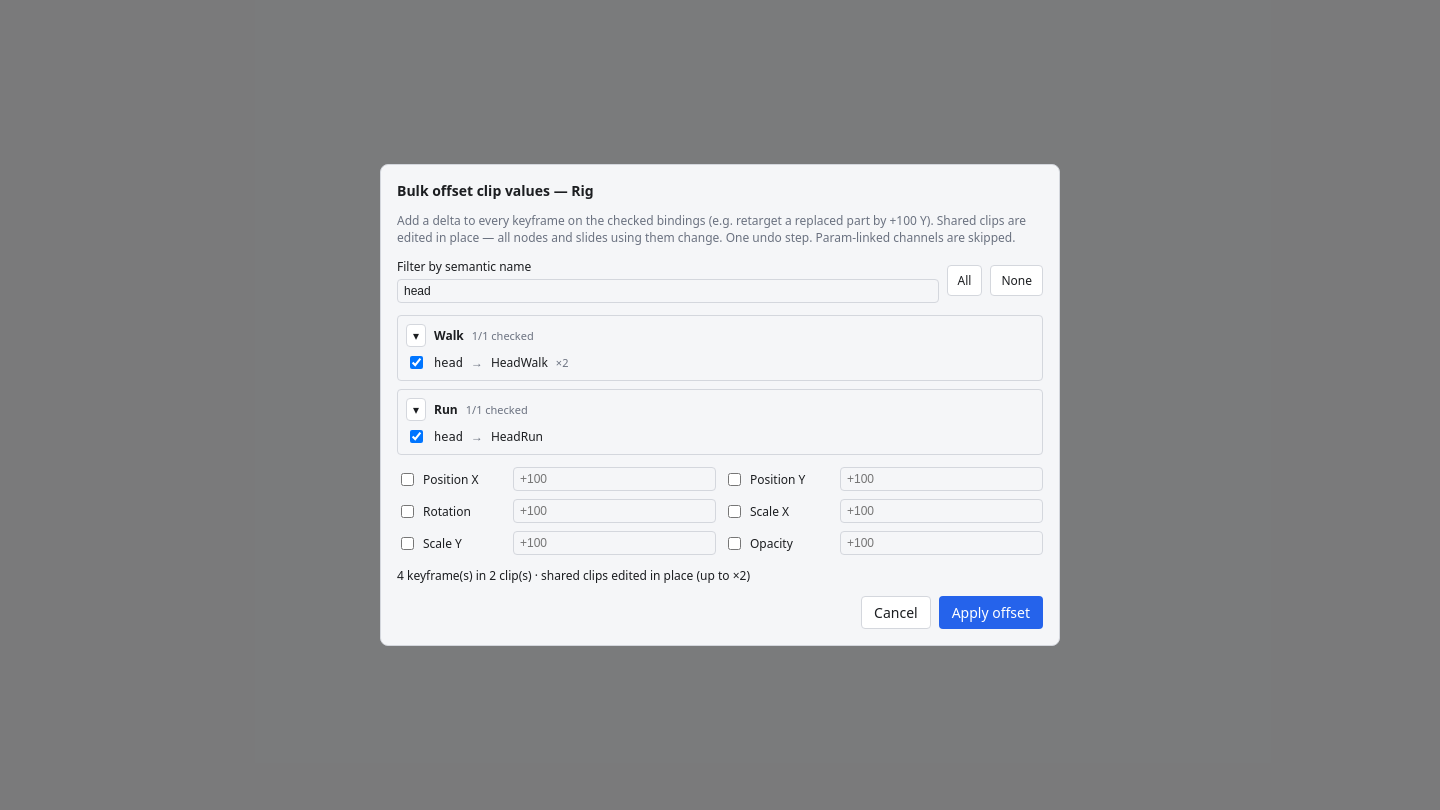
BulkOffsetModal › select-none blocks confirm with an error
The image size is (1440, 810).
Clear the field with test id "bulk-offset-filter" at (668, 291), box [397,279,938,303]
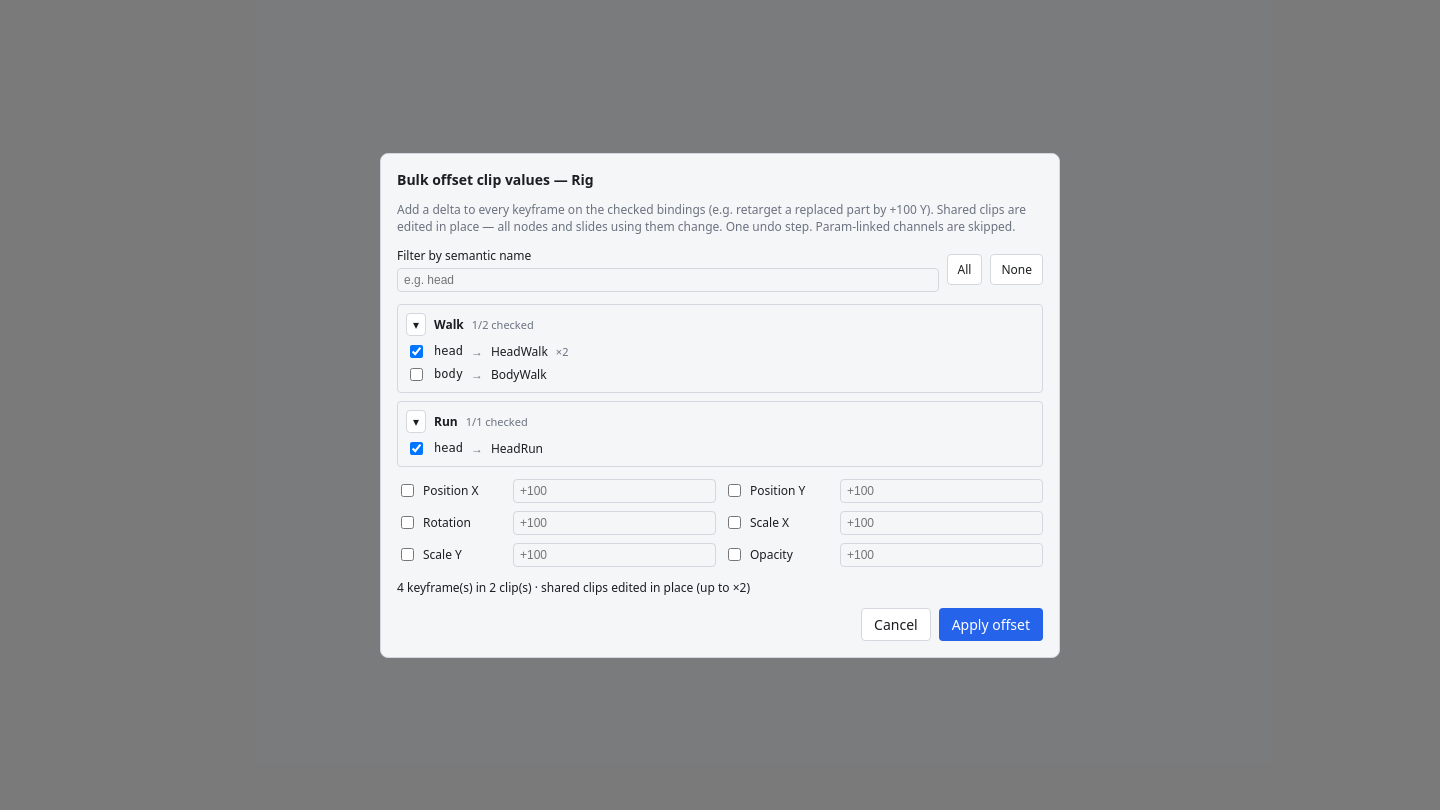
Click the button with test id "bulk-offset-select-none".
click(1017, 269)  # box [990,254,1043,284]
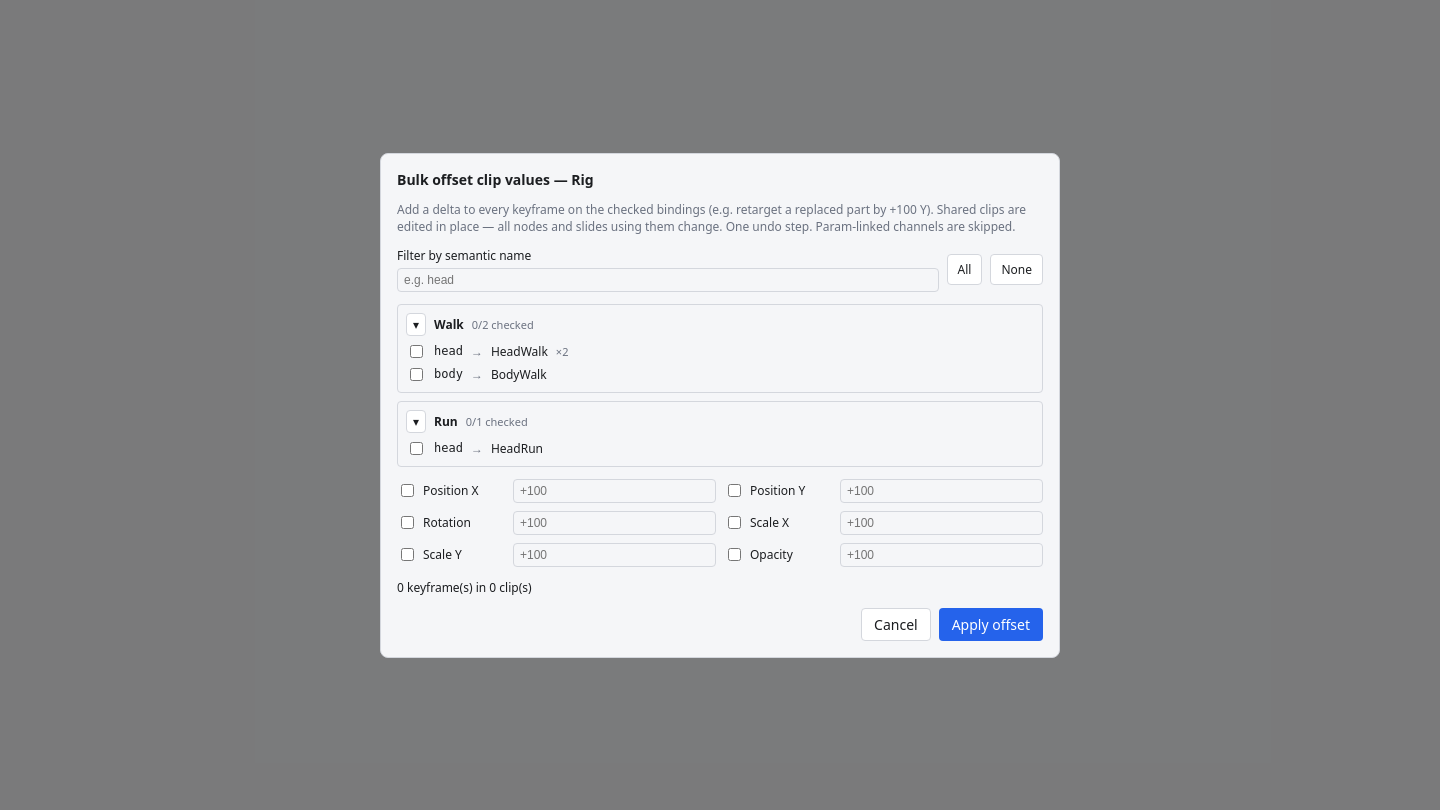
Click the checkbox with test id "bulk-offset-channel-positionY".
click(734, 490)  # box [728,484,741,497]
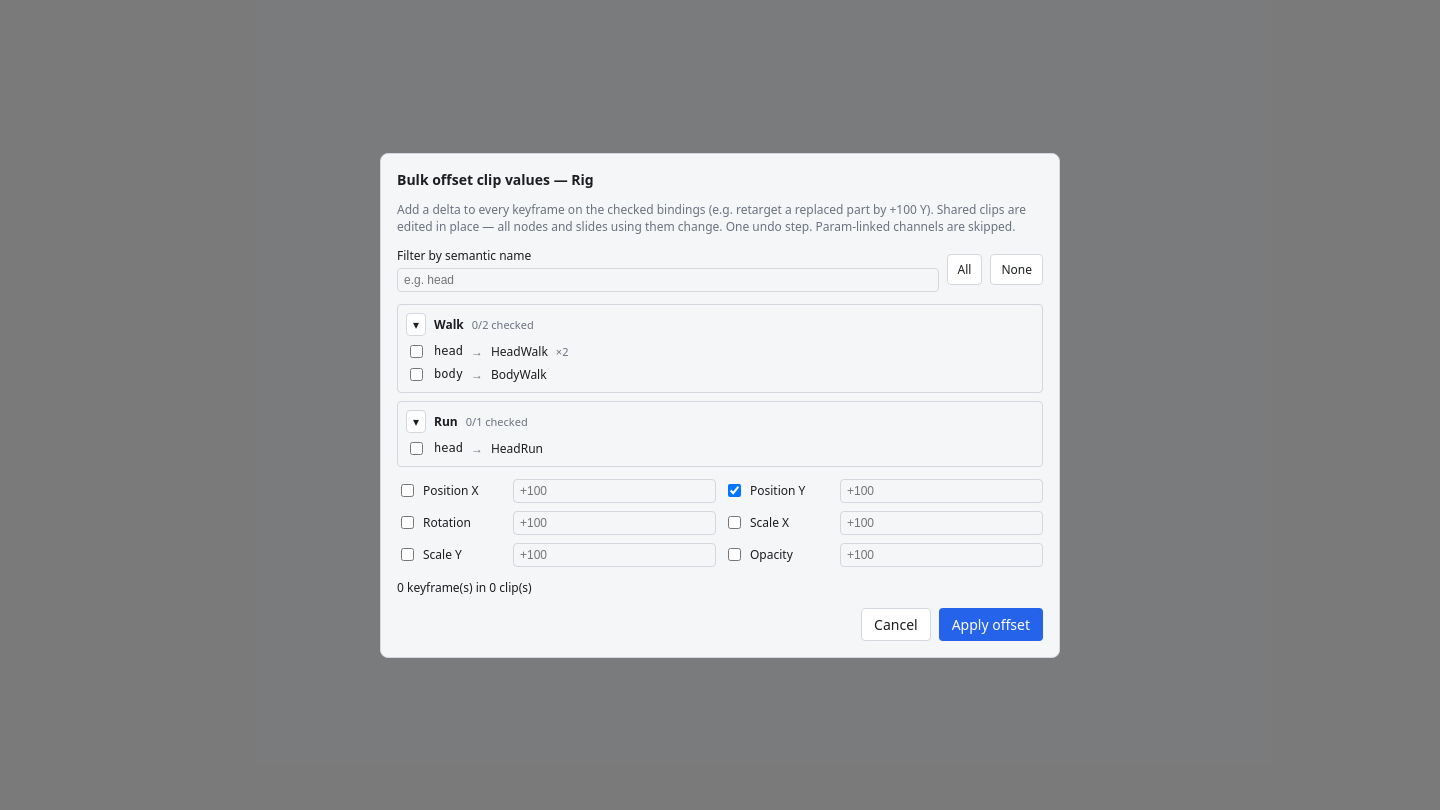
Type "100" into the field with test id "bulk-offset-delta-positionY".
click(942, 490); type("100")  # box [840,478,1043,502]
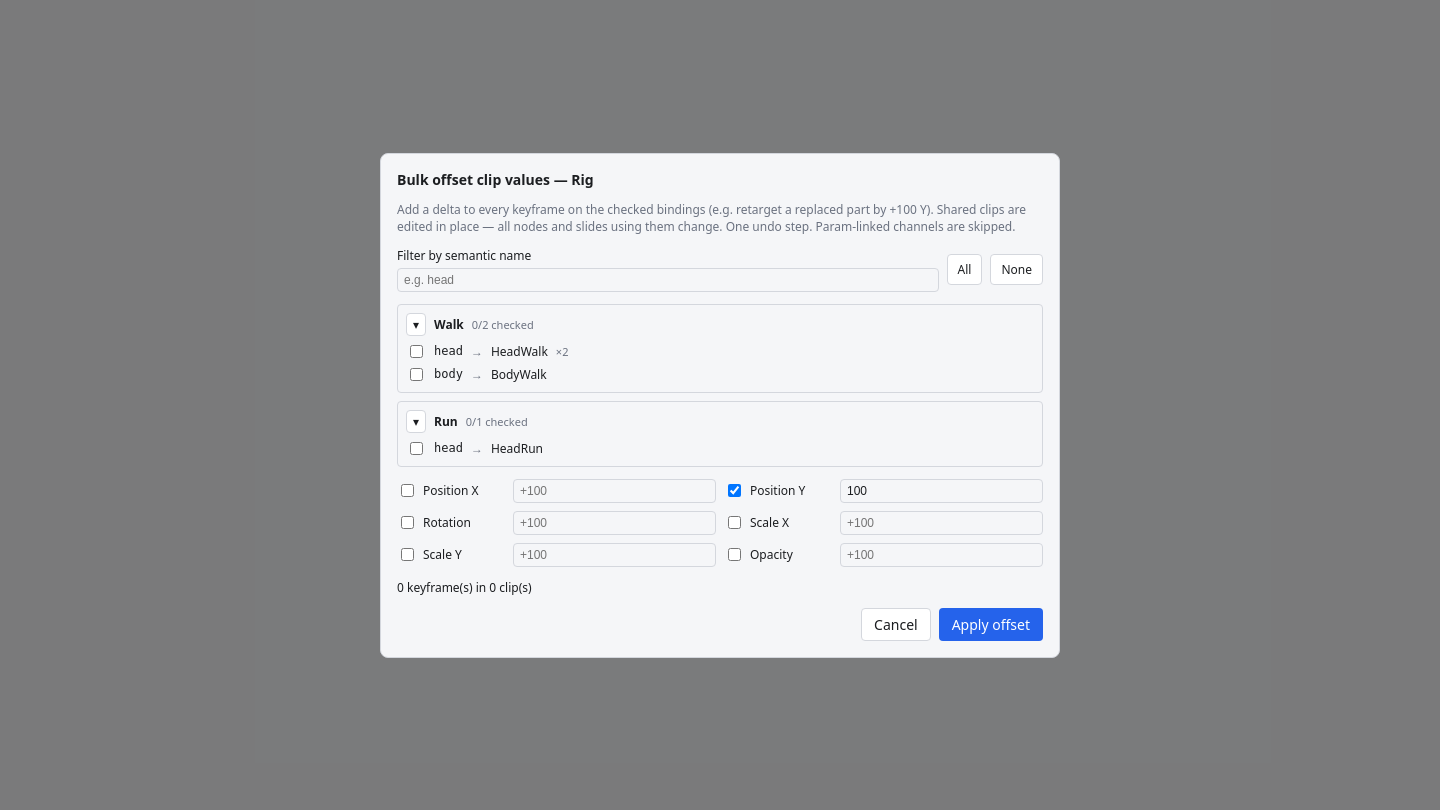
Click the button with test id "bulk-offset-confirm".
click(991, 624)  # box [939,608,1043,640]
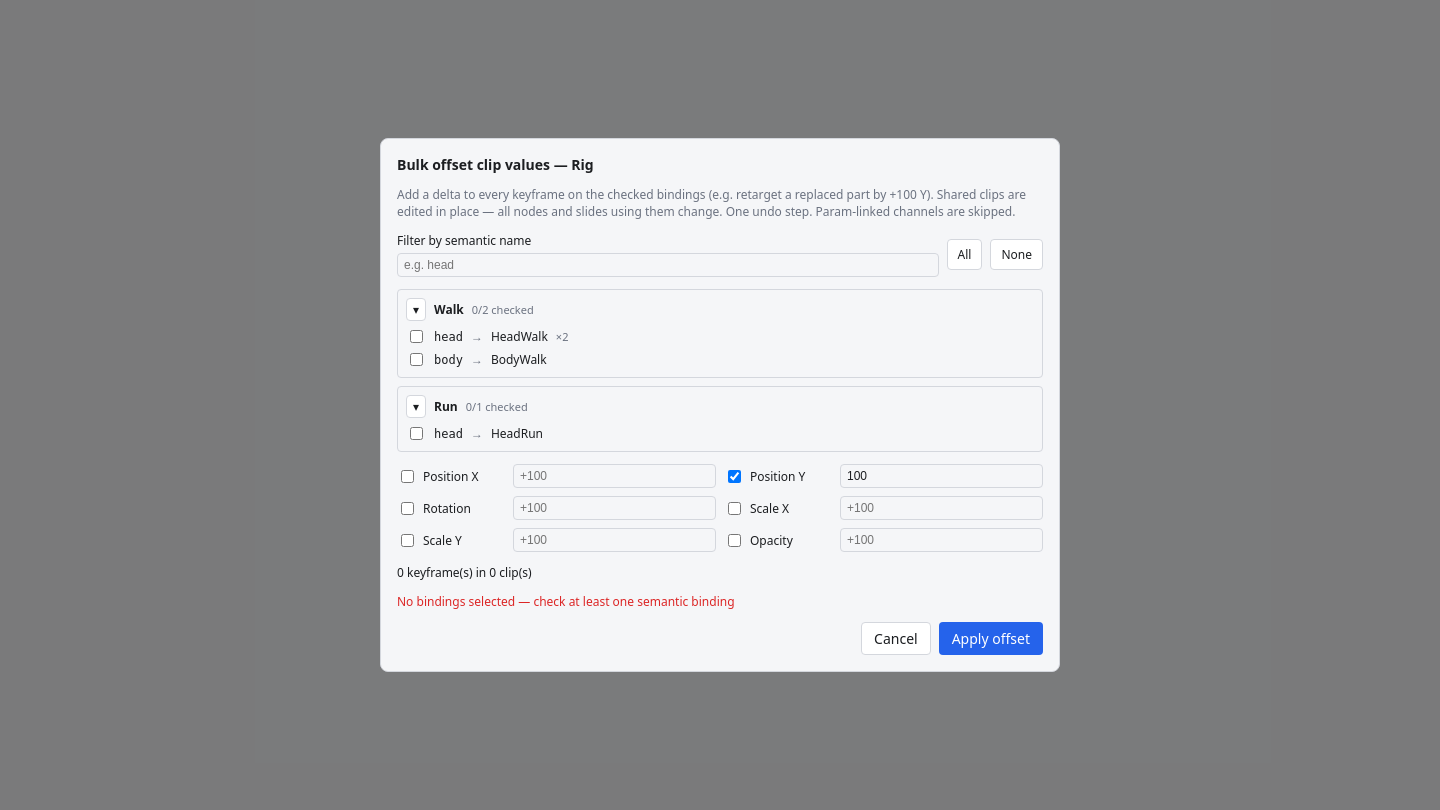
expect the message "No bindings selected — check at least one semantic binding" is shown: met, box [397,593,734,610]
